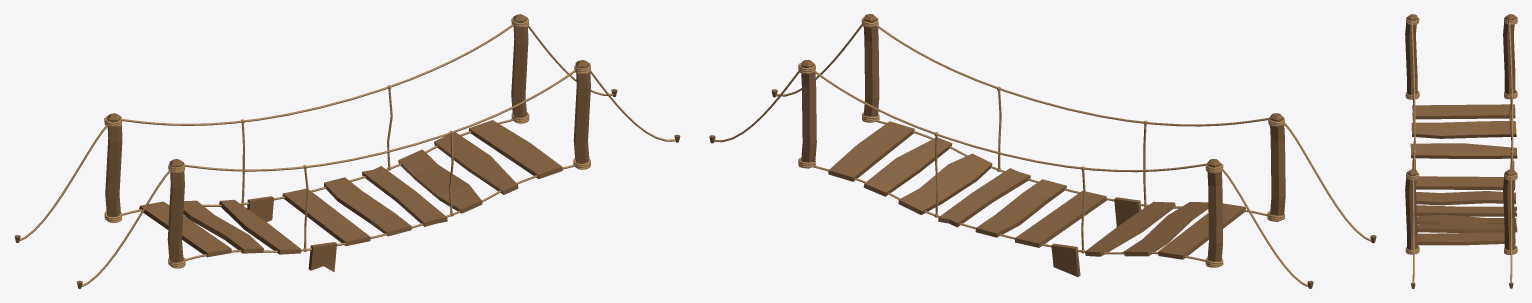
Rendered from Bridge_01.fbx.
3 renders of one model, left to right at view 1: azimuth 30°, elevation 25°; view 2: azimuth 150°, elevation 25°; view 3: azimuth 270°, elevation 25°, orthographic. The views are drawn at different scales.
Parts seen in each view (by area): view 1: Bridge_01; view 2: Bridge_01; view 3: Bridge_01.
Boxes of the visible parts, box(x1,y1,x2,y2) form: Bridge_01: box(14, 14, 680, 288); Bridge_01: box(709, 14, 1376, 288); Bridge_01: box(1405, 14, 1517, 288).
Bounding box in the file's own units: 880 × 209 × 182.
